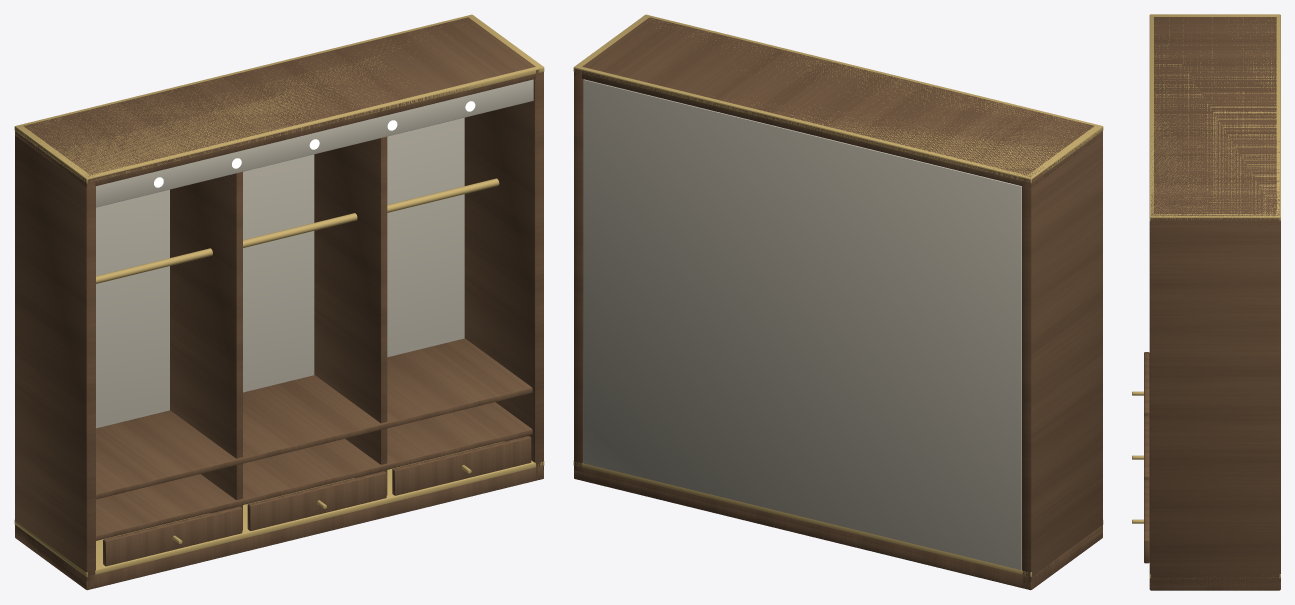
Rendered from pf_display_clothing_rack_t5.glb.
3 views of the same model, side by side, from view 1: azimuth 30°, elevation 25°; view 2: azimuth 150°, elevation 25°; view 3: azimuth 270°, elevation 25° (orthographic). The views are drawn at different scales.
Parts seen in each view (by area): view 1: Case_Back, Case_Left, Crown_Main, Shelf_02, Case_Right, Millwork_Divider_02, Millwork_Divider_01, Shelf_01, Crown_Trim, Header_Back, Plinth_Base, Case_Top (+6 smaller); view 2: Case_Back, Case_Left, Crown_Main, Crown_Trim, Plinth_Base, Case_Base, Case_Top, Case_Right, Plinth_Trim; view 3: Case_Right, Crown_Main, Crown_Trim, Case_Top, Case_Base, Drawer_Front_03, Drawer_Front_01, Drawer_Front_02.
Part boxes in pixels (x1=…): Case_Back: x1=96, y1=117, x2=464, y2=428; Case_Left: x1=15, y1=129, x2=95, y2=589; Crown_Main: x1=23, y1=17, x2=535, y2=175; Shelf_02: x1=96, y1=338, x2=532, y2=499; Case_Right: x1=464, y1=69, x2=543, y2=479; Millwork_Divider_02: x1=314, y1=136, x2=387, y2=495; Millwork_Divider_01: x1=170, y1=172, x2=242, y2=530; Shelf_01: x1=96, y1=402, x2=532, y2=540; Crown_Trim: x1=14, y1=14, x2=544, y2=183; Header_Back: x1=96, y1=79, x2=533, y2=207; Plinth_Base: x1=15, y1=465, x2=542, y2=586; Case_Top: x1=15, y1=73, x2=535, y2=187; Case_Back: x1=583, y1=79, x2=1021, y2=569; Case_Left: x1=1022, y1=128, x2=1102, y2=589; Crown_Main: x1=582, y1=17, x2=1094, y2=175; Crown_Trim: x1=573, y1=14, x2=1103, y2=183; Plinth_Base: x1=575, y1=466, x2=1102, y2=585; Case_Base: x1=574, y1=470, x2=1102, y2=590; Case_Top: x1=574, y1=68, x2=1100, y2=187; Case_Right: x1=574, y1=69, x2=583, y2=480; Plinth_Trim: x1=573, y1=461, x2=1103, y2=577; Case_Right: x1=1149, y1=213, x2=1280, y2=589; Crown_Main: x1=1154, y1=17, x2=1276, y2=213; Crown_Trim: x1=1149, y1=14, x2=1280, y2=221; Case_Top: x1=1149, y1=135, x2=1280, y2=224; Case_Base: x1=1149, y1=582, x2=1280, y2=590; Drawer_Front_03: x1=1144, y1=480, x2=1149, y2=563; Drawer_Front_01: x1=1144, y1=352, x2=1149, y2=416; Drawer_Front_02: x1=1144, y1=416, x2=1149, y2=480.
Size of the model in its own units: 3 by 2.58 by 0.93.
Materials: 5 (1 with a texture image).
